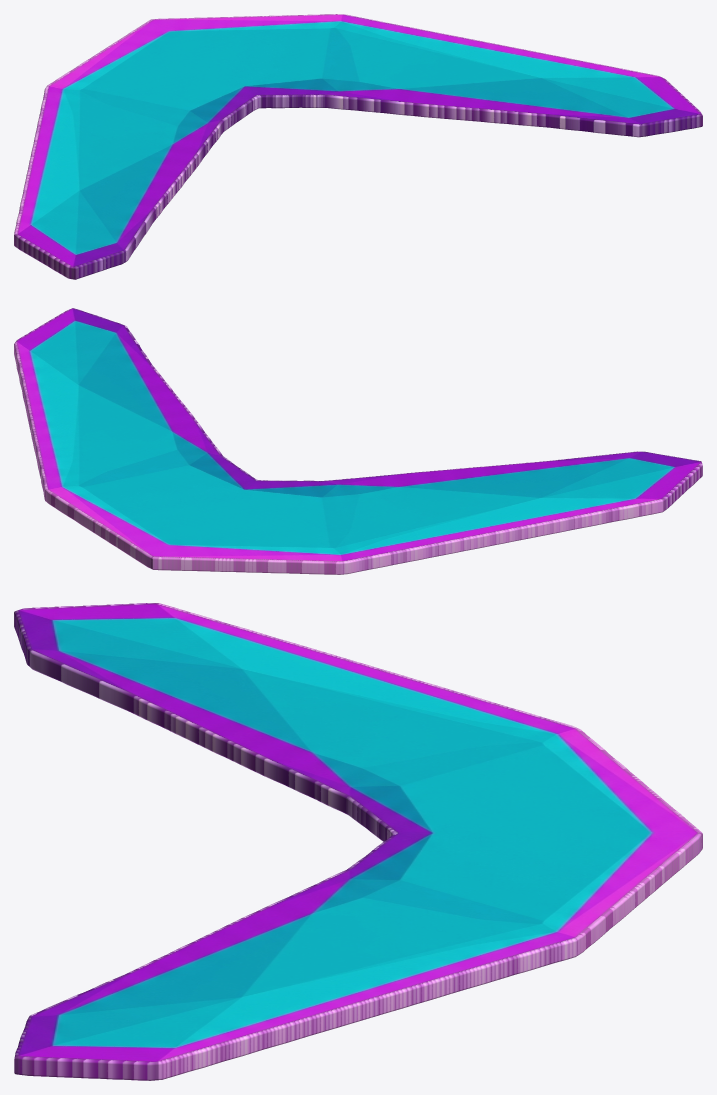
Rendered from Boomerang_22.fbx.
The picture shows the model from 3 angles, top to bottom: view 1: azimuth 30°, elevation 25°; view 2: azimuth 150°, elevation 25°; view 3: azimuth 270°, elevation 25°; orthographic projection. The views are drawn at different scales.
Parts seen in each view (by area): view 1: Boomerang_22; view 2: Boomerang_22; view 3: Boomerang_22.
Boxes of the visible parts, <box> form: Boomerang_22: <box>14,14,702,279</box>; Boomerang_22: <box>14,308,702,574</box>; Boomerang_22: <box>14,603,702,1080</box>.
Size of the model in its own units: 216 by 4 by 137.
1 material, 1 textured.
